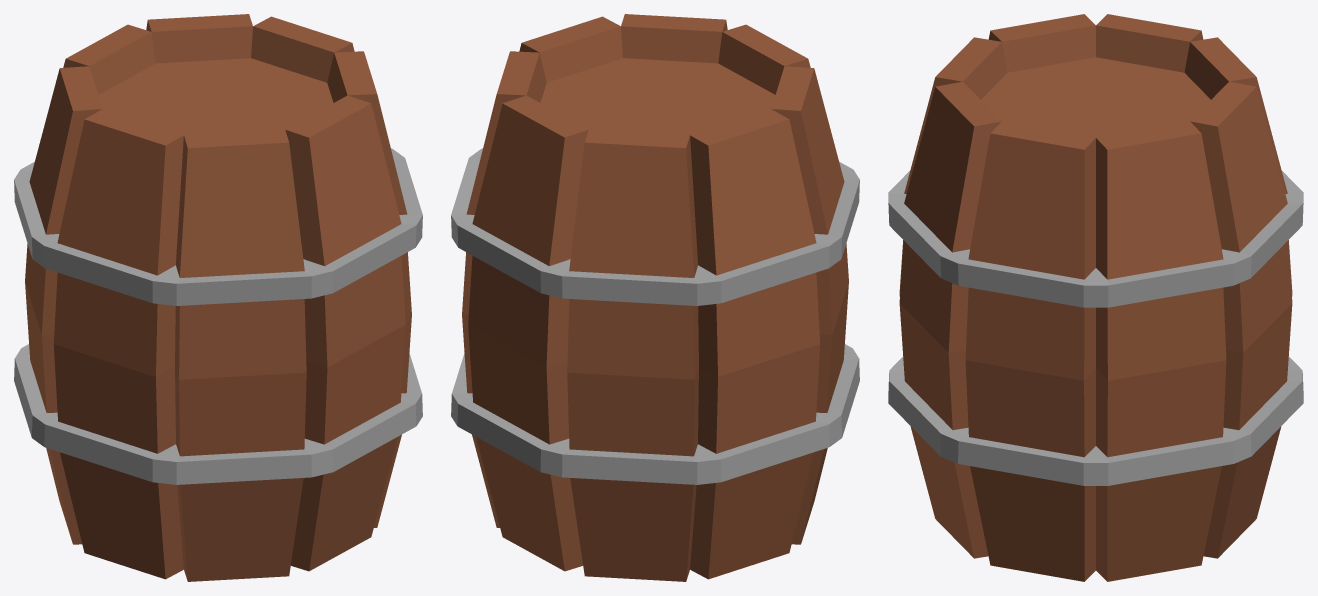
Rendered from Barrel.glb.
The picture shows the model from 3 angles, left to right: view 1: azimuth 30°, elevation 25°; view 2: azimuth 150°, elevation 25°; view 3: azimuth 270°, elevation 25°; orthographic projection.
Visible parts, largest first — view 1: Barrel; view 2: Barrel; view 3: Barrel.
Boxes of the visible parts, box(x1,y1,x2,y2) form: Barrel: box(14, 14, 422, 581); Barrel: box(451, 14, 859, 581); Barrel: box(888, 14, 1303, 581).
Bounding box in the file's own units: 1.01 × 1.16 × 1.01.
